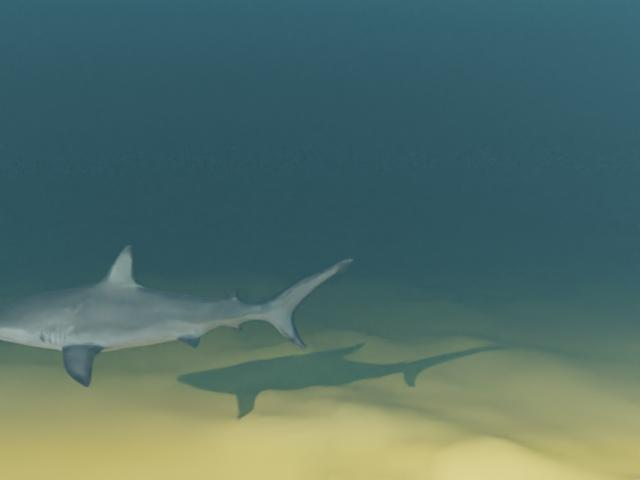Carribean Shark.001: (0, 244, 354, 387)
